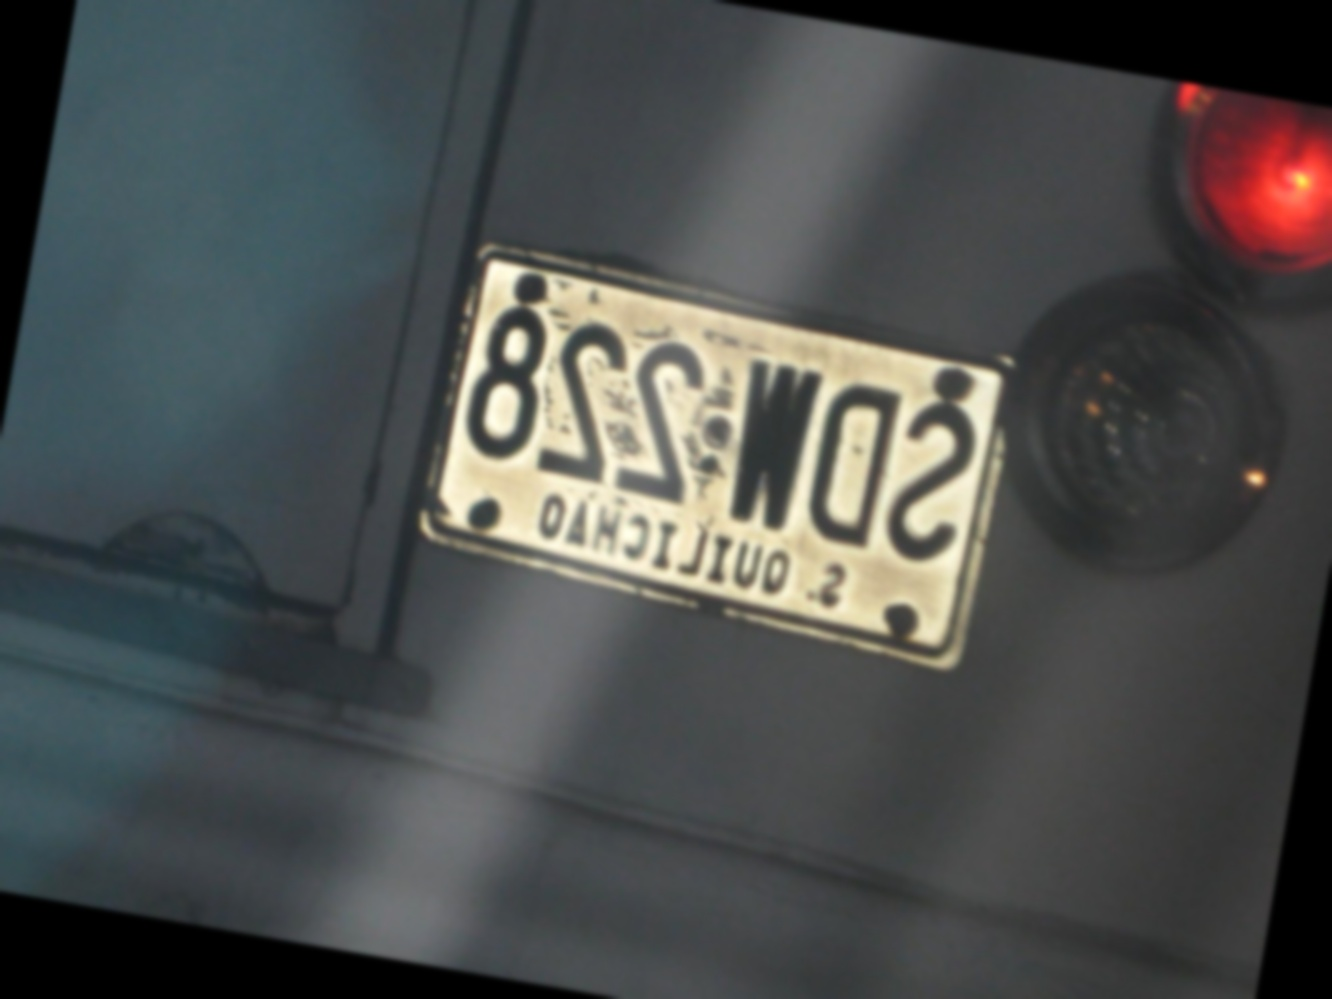placas: (397, 231, 1038, 686)
